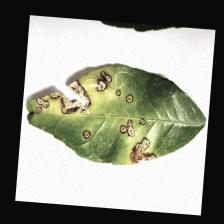canker: (29, 68, 159, 163)
